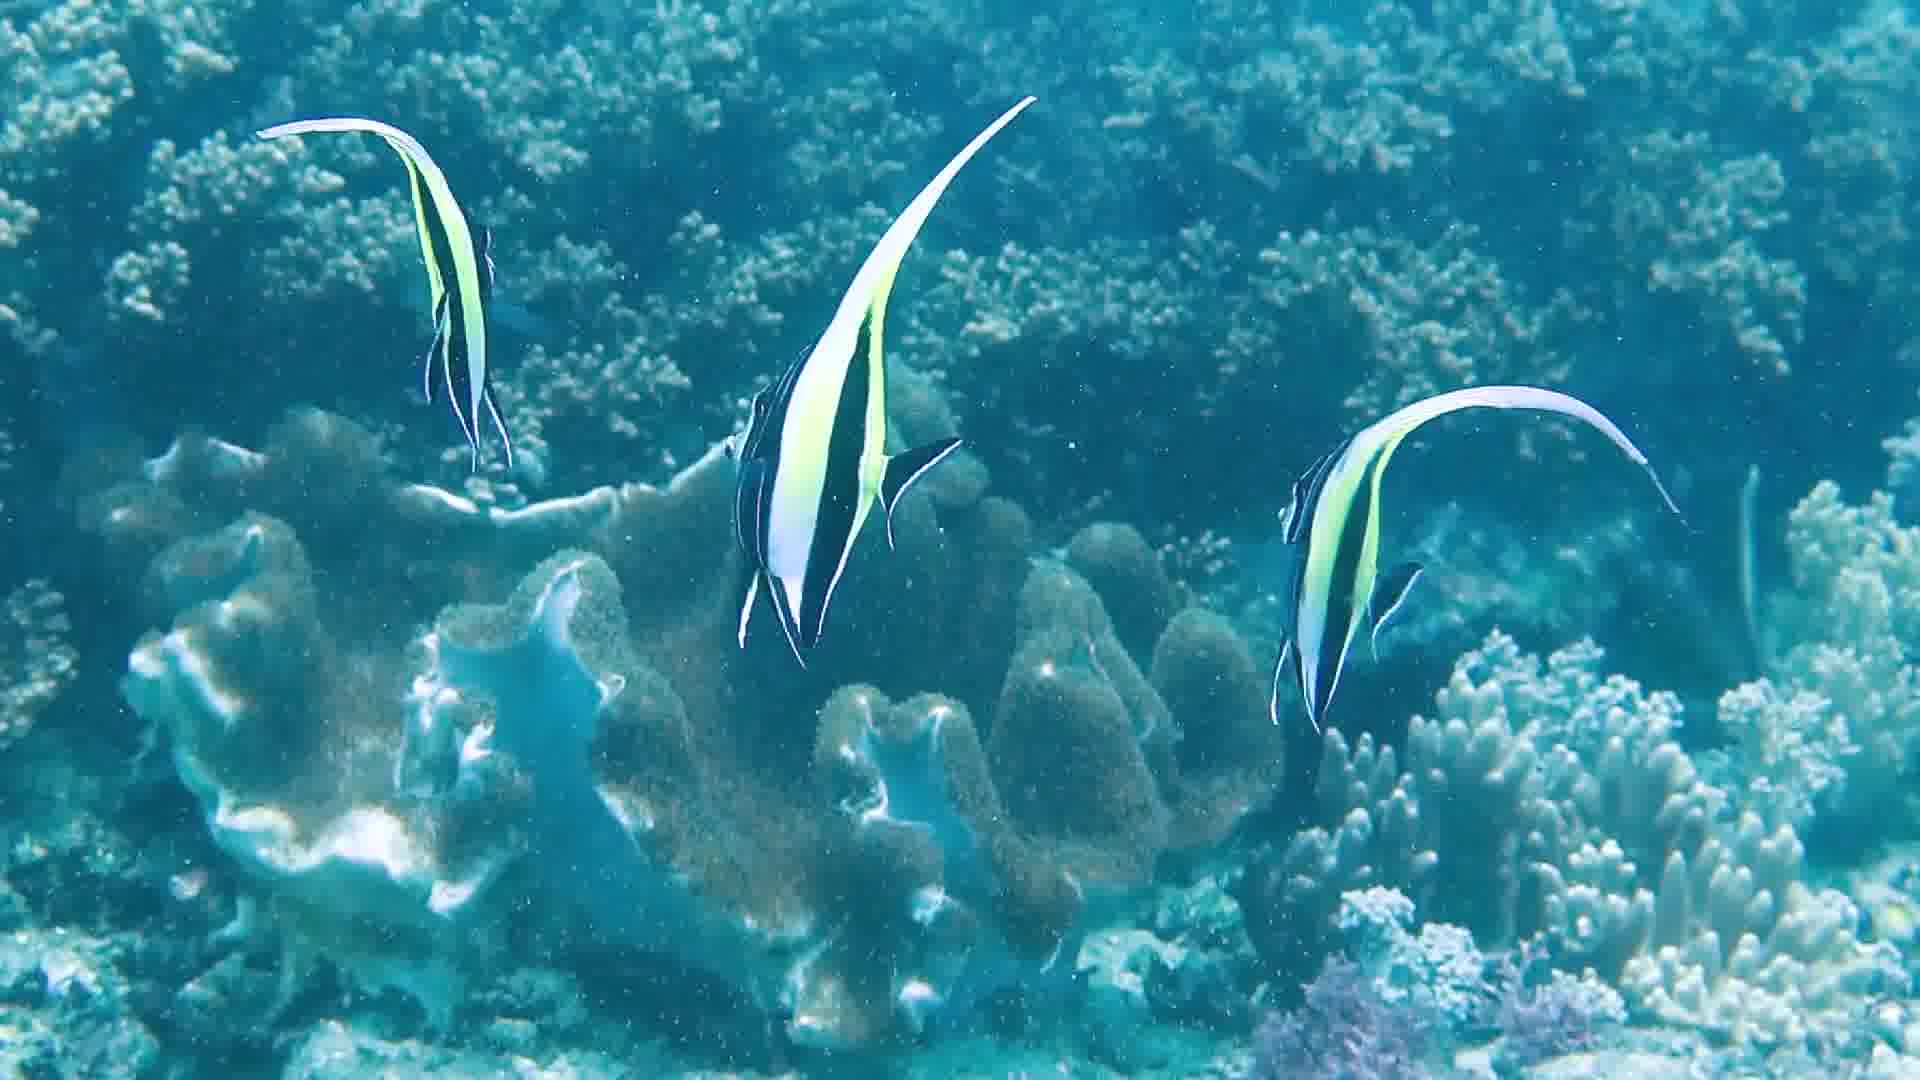Zanclus cornutus: (688, 237, 944, 642), (1255, 380, 1457, 756), (378, 119, 554, 451)
